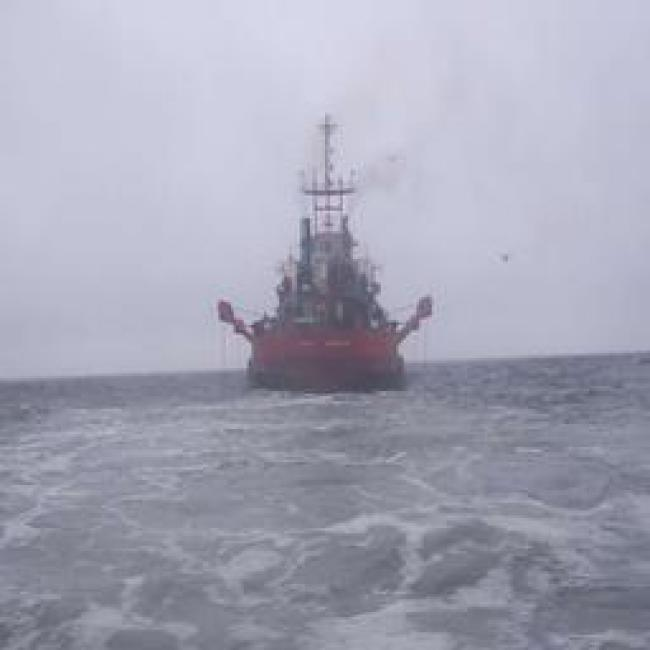Ship: (197, 165, 452, 411)
